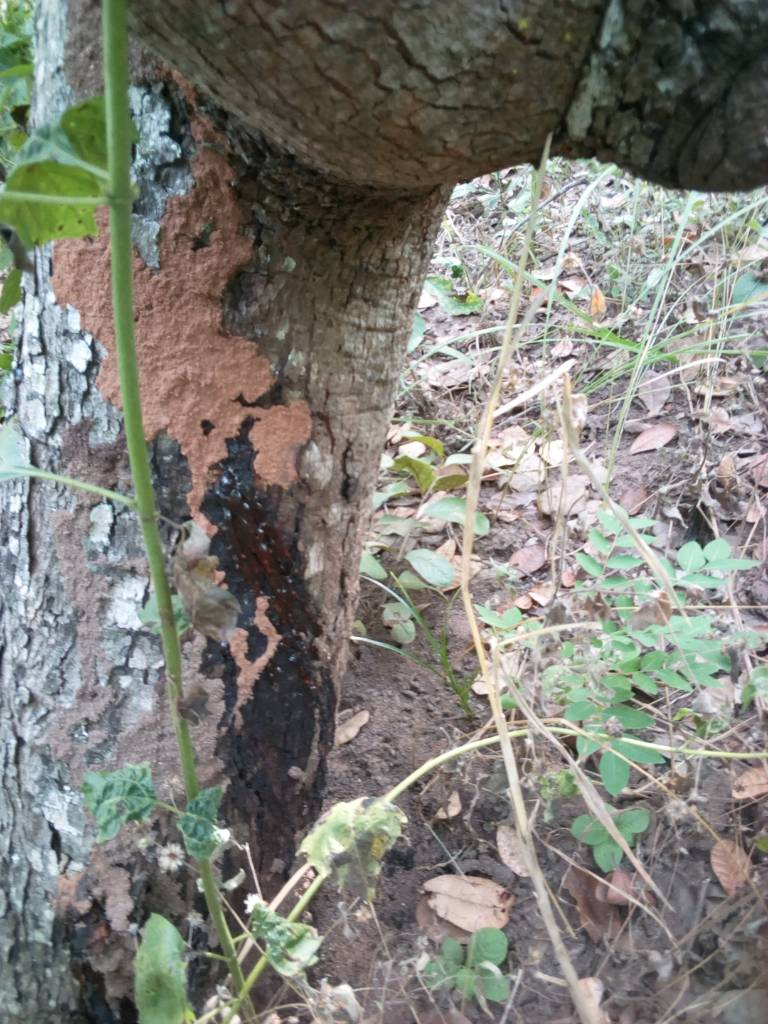Termites: (57, 224, 296, 782)
